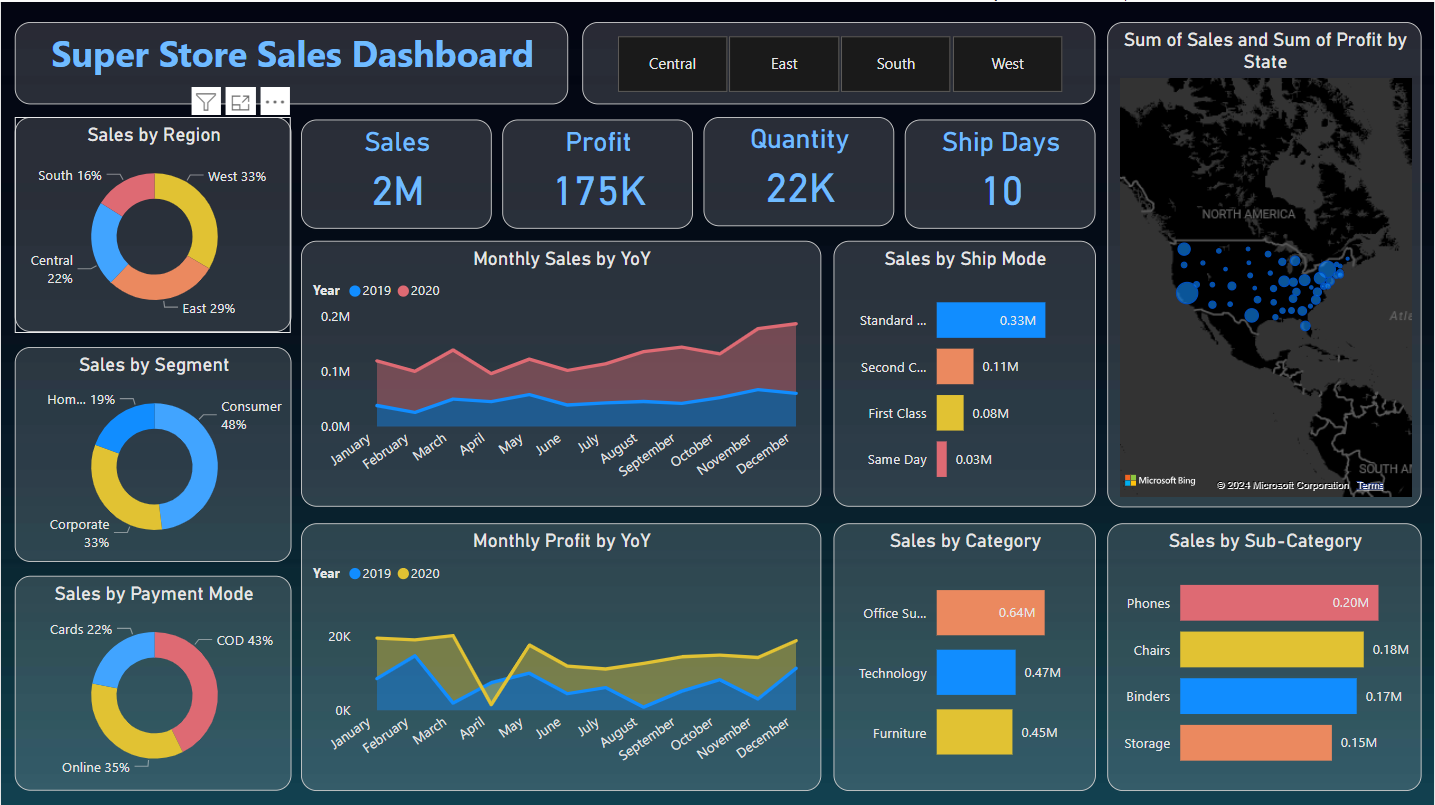

This screenshot's page, from the dashboard's own definition file:
{"tool":"powerbi","page":{"name":"Page 1","canvas":[1280,720],"ordinal":0},"visuals":[{"type":"clusteredBarChart","title":"Sales by Category","fields":{"Category":["SuperStore_Sales_Dataset.Category"],"Y":["Sum(SuperStore_Sales_Dataset.Sales)"]},"box":[743.3,465.9,234.1,238.9],"z":0},{"type":"clusteredBarChart","title":"Sales by Sub-Category","fields":{"Category":["SuperStore_Sales_Dataset.Sub-Category"],"Y":["Sum(SuperStore_Sales_Dataset.Sales)"]},"box":[988.2,465.9,281,238.9],"z":1000},{"type":"clusteredBarChart","title":"Sales by Ship Mode","fields":{"Category":["SuperStore_Sales_Dataset.Ship Mode"],"Y":["Sum(SuperStore_Sales_Dataset.Sales)"]},"box":[743.3,213.7,234.1,237.7],"z":2000},{"type":"stackedAreaChart","title":"Monthly Sales by YoY","fields":{"Category":["SuperStore_Sales_Dataset.Order Date.Variation.Date Hierarchy.Month"],"Y":["Sum(SuperStore_Sales_Dataset.Sales)"],"Series":["SuperStore_Sales_Dataset.Order Date.Variation.Date Hierarchy.Year"]},"box":[267.8,213.7,464.7,237.7],"z":3000},{"type":"stackedAreaChart","title":"Monthly Profit by YoY","fields":{"Category":["SuperStore_Sales_Dataset.Order Date.Variation.Date Hierarchy.Month"],"Series":["SuperStore_Sales_Dataset.Order Date.Variation.Date Hierarchy.Year"],"Y":["Sum(SuperStore_Sales_Dataset.Profit)"]},"box":[267.8,465.9,464.7,238.9],"z":4000},{"type":"map","fields":{"Category":["SuperStore_Sales_Dataset.State"],"Size":["Sum(SuperStore_Sales_Dataset.Sales)"]},"box":[988.2,18,281,433.5],"z":5000},{"type":"donutChart","title":"Sales by Segment","fields":{"Category":["SuperStore_Sales_Dataset.Segment"],"Y":["Sum(SuperStore_Sales_Dataset.Sales)"]},"box":[12,308.6,247.4,192.1],"z":6000},{"type":"donutChart","title":"Sales by Payment Mode","fields":{"Category":["SuperStore_Sales_Dataset.Payment Mode"],"Y":["Sum(SuperStore_Sales_Dataset.Sales)"]},"box":[12,512.7,247.4,192.1],"z":7000},{"type":"slicer","fields":{"Values":["SuperStore_Sales_Dataset.Region"]},"box":[518.7,18,458.7,73.2],"z":8000},{"type":"textbox","box":[12,18,494.7,73.2],"z":9000},{"type":"card","title":"Sales","fields":{"Values":["Sum(SuperStore_Sales_Dataset.Sales)"]},"box":[267.8,104.5,170.5,97.3],"z":10000},{"type":"card","title":"Profit","fields":{"Values":["Sum(SuperStore_Sales_Dataset.Profit)"]},"box":[447.9,104.5,170.5,97.3],"z":11000},{"type":"card","title":"Quantity","fields":{"Values":["Sum(SuperStore_Sales_Dataset.Quantity)"]},"box":[628,103.3,170.5,97.3],"z":12000},{"type":"card","title":"Ship Days","fields":{"Values":["Avg(SuperStore_Sales_Dataset.Shipment Days)"]},"box":[806.9,104.5,170.5,97.3],"z":13000},{"type":"donutChart","title":"Sales by Region","fields":{"Y":["Sum(SuperStore_Sales_Dataset.Sales)"],"Category":["SuperStore_Sales_Dataset.Region"]},"box":[12,103.3,247.4,192.1],"z":14000}]}

Visuals, with their boxes in screenshot pixels (x1, y1, x2, y2), scaled from the page's 1280x720 canvas onto the 1435x805 screenshot:
"Sales by Category" clusteredBarChart: <bbox>833, 521, 1096, 788</bbox>
"Sales by Sub-Category" clusteredBarChart: <bbox>1108, 521, 1423, 788</bbox>
"Sales by Ship Mode" clusteredBarChart: <bbox>833, 239, 1096, 505</bbox>
"Monthly Sales by YoY" stackedAreaChart: <bbox>300, 239, 821, 505</bbox>
"Monthly Profit by YoY" stackedAreaChart: <bbox>300, 521, 821, 788</bbox>
map - SuperStore_Sales_Dataset.State x Sum(SuperStore_Sales_Dataset.Sales): <bbox>1108, 20, 1423, 505</bbox>
"Sales by Segment" donutChart: <bbox>13, 345, 291, 560</bbox>
"Sales by Payment Mode" donutChart: <bbox>13, 573, 291, 788</bbox>
slicer - SuperStore_Sales_Dataset.Region: <bbox>582, 20, 1096, 102</bbox>
textbox: <bbox>13, 20, 568, 102</bbox>
"Sales" card: <bbox>300, 117, 491, 226</bbox>
"Profit" card: <bbox>502, 117, 693, 226</bbox>
"Quantity" card: <bbox>704, 115, 895, 224</bbox>
"Ship Days" card: <bbox>905, 117, 1096, 226</bbox>
"Sales by Region" donutChart: <bbox>13, 115, 291, 330</bbox>
